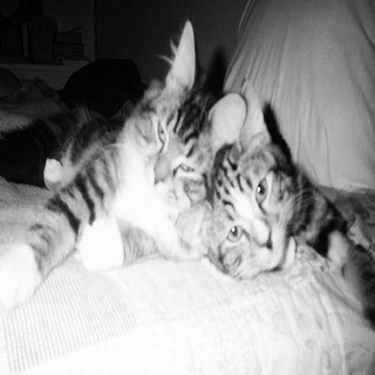cat: (19, 27, 248, 314), (176, 87, 371, 331)
